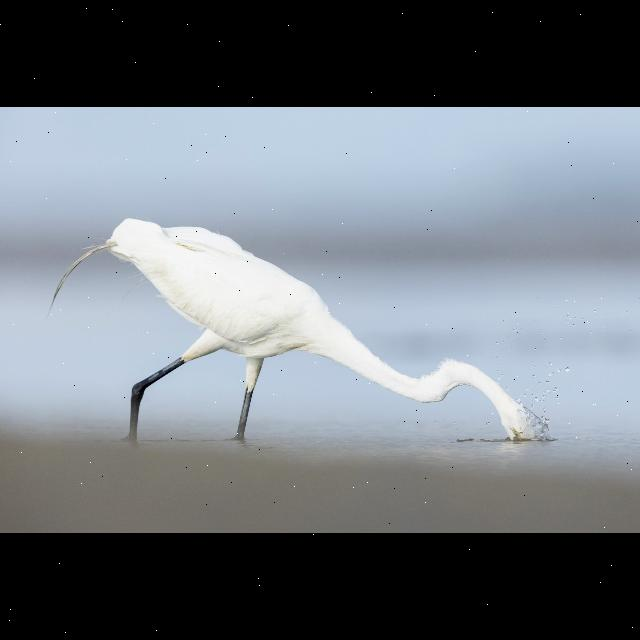egret: (49, 218, 547, 444)
